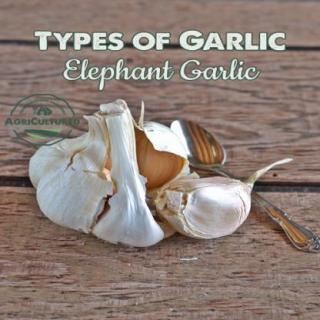Bawang Putih: (28, 112, 190, 248), (159, 176, 256, 240)
